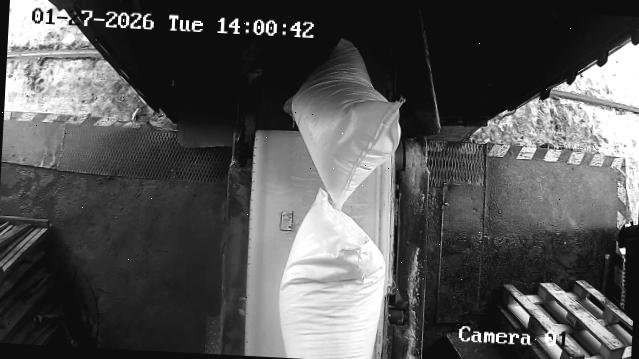bag: (278, 36, 405, 212), (275, 187, 388, 359)
